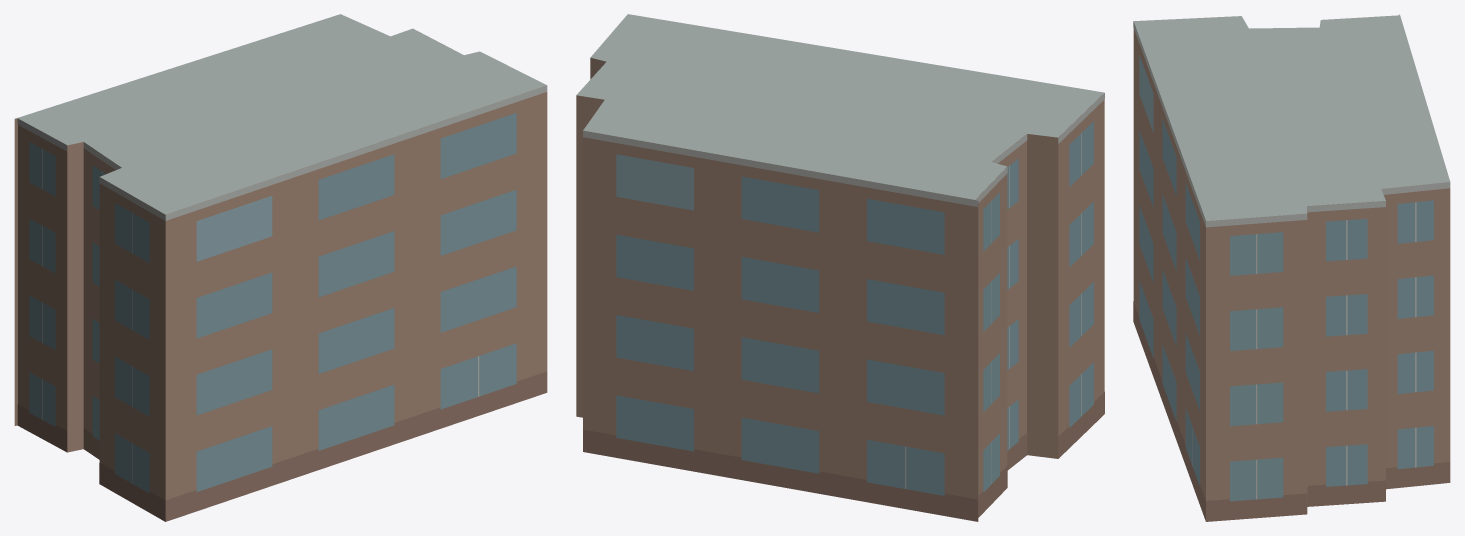
File: survey-upis-32907838.glb
3 views of the same model, side by side, from view 1: azimuth 30°, elevation 25°; view 2: azimuth 150°, elevation 25°; view 3: azimuth 270°, elevation 25° (orthographic). The views are drawn at different scales.
Parts seen in each view (by area): view 1: survey-upis-32907838.tmp; view 2: survey-upis-32907838.tmp; view 3: survey-upis-32907838.tmp.
Boxes of the visible parts, x1,y1,x2,y2 form: survey-upis-32907838.tmp: [14, 14, 547, 521]; survey-upis-32907838.tmp: [576, 14, 1104, 521]; survey-upis-32907838.tmp: [1133, 14, 1450, 521].
Bounding box in the file's own units: 17.52 × 11.85 × 11.33.
